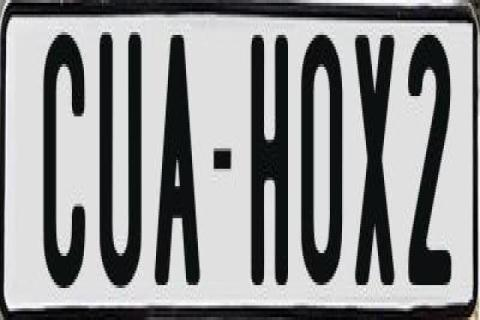0: (406, 35, 456, 303), (298, 26, 346, 282)
A: (152, 35, 199, 288)
C: (40, 32, 86, 306)
H: (250, 32, 294, 296)
U: (100, 29, 142, 285)
X: (356, 32, 402, 296)
